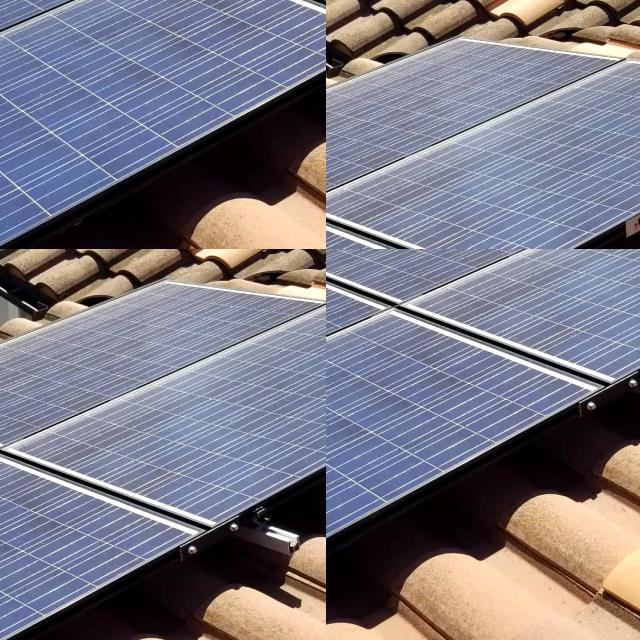crack: (46, 0, 81, 8), (34, 0, 63, 8), (3, 0, 24, 10), (8, 0, 33, 8), (0, 0, 22, 9), (14, 0, 42, 7), (69, 0, 97, 7), (40, 0, 62, 8), (5, 0, 26, 8), (28, 0, 49, 8), (38, 0, 61, 7), (54, 0, 76, 7), (25, 0, 47, 7), (10, 0, 40, 5), (24, 0, 44, 7), (18, 0, 41, 6), (47, 0, 66, 7), (59, 0, 81, 6), (80, 0, 102, 6), (33, 0, 54, 6), (94, 0, 115, 6), (54, 0, 78, 5), (67, 0, 87, 6), (17, 0, 36, 6), (0, 0, 14, 8), (50, 0, 72, 5), (4, 0, 25, 5), (27, 0, 47, 5), (0, 0, 13, 7), (0, 0, 10, 9), (0, 0, 11, 8), (30, 0, 47, 5), (24, 0, 38, 6), (0, 0, 14, 6), (0, 0, 9, 9), (0, 0, 10, 8), (15, 0, 31, 5), (52, 0, 68, 5), (0, 0, 9, 8), (0, 0, 14, 5), (0, 0, 10, 7), (41, 0, 58, 4), (0, 0, 11, 6), (0, 0, 9, 7), (0, 0, 10, 6), (0, 0, 9, 6), (0, 0, 8, 5), (0, 0, 10, 4), (0, 0, 9, 4), (0, 0, 7, 5), (0, 0, 6, 5)
dust: (415, 249, 640, 320), (326, 346, 451, 473), (326, 379, 389, 568), (382, 52, 486, 146), (326, 276, 389, 371), (330, 89, 373, 152), (422, 0, 500, 26), (326, 94, 346, 154), (342, 22, 384, 48), (326, 55, 372, 78), (326, 77, 340, 152), (326, 125, 344, 167), (326, 129, 340, 164)
panel: (0, 356, 134, 411), (0, 461, 106, 525), (0, 406, 164, 447), (0, 365, 64, 439), (136, 352, 251, 393), (0, 365, 46, 454), (0, 309, 59, 359), (0, 320, 54, 365)
